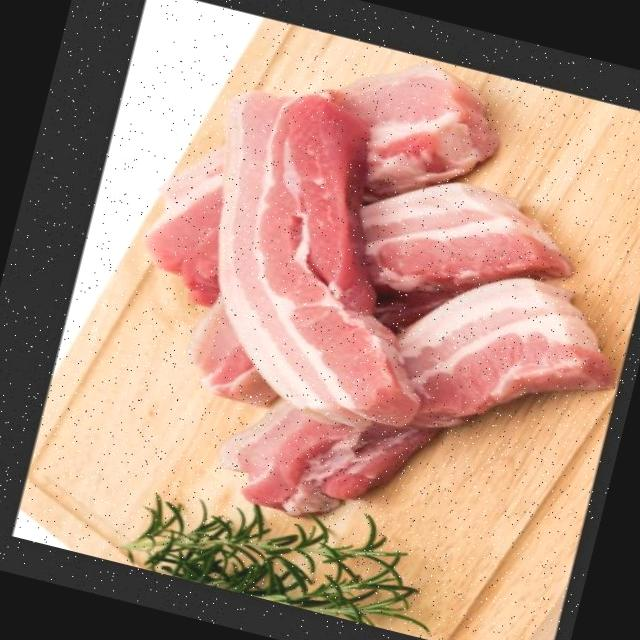pork: (156, 68, 486, 303), (218, 90, 414, 429), (398, 279, 604, 438), (365, 179, 572, 315), (222, 396, 432, 515)
